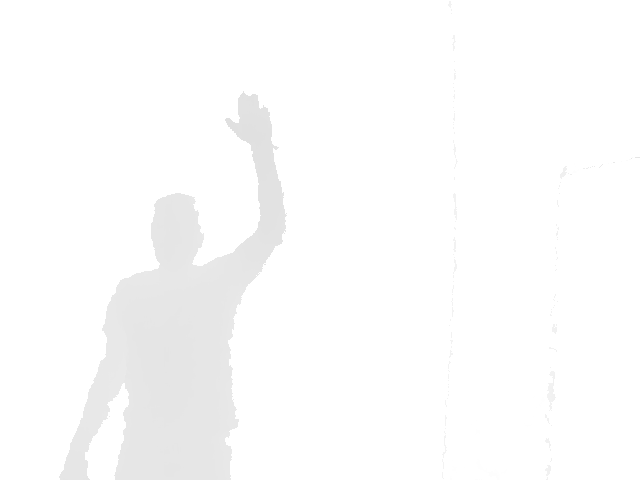hand: (223, 91, 275, 146)
head: (149, 192, 205, 272)
person: (57, 91, 288, 479)
